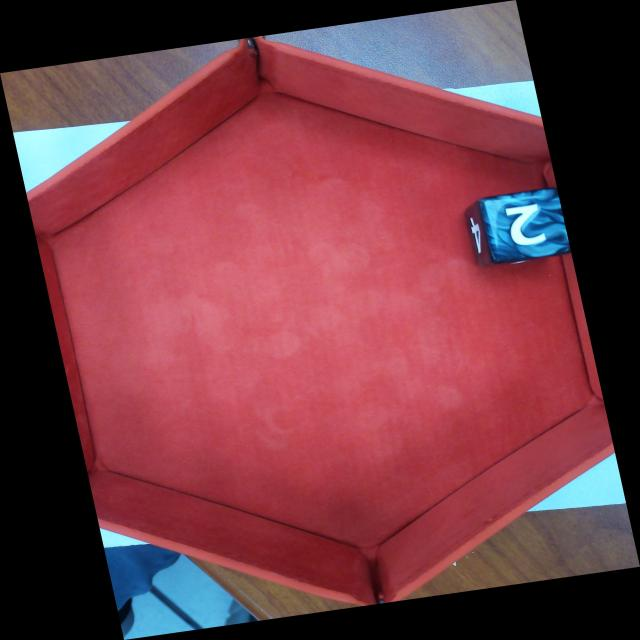dice: (487, 192, 569, 254)
